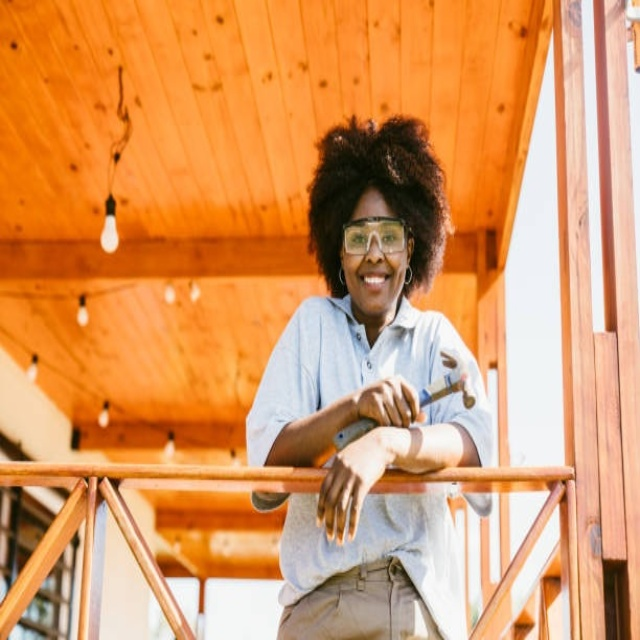Gafas: (341, 217, 410, 255)
Sin_guantes: (314, 448, 376, 545), (355, 374, 422, 431)
Sin_mascara: (355, 267, 394, 303)
